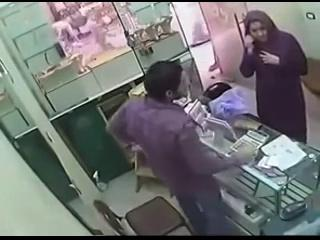Normal: (106, 61, 252, 234), (238, 9, 310, 144), (93, 196, 193, 236)
